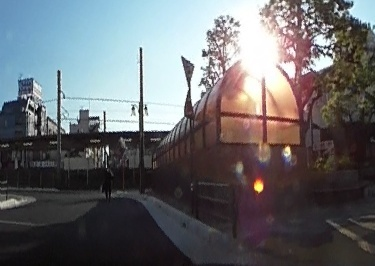person: (103, 163, 115, 198)
